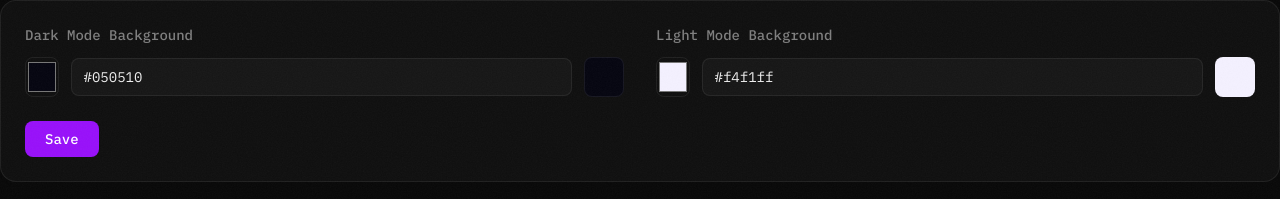
SettingsAdminClient › dark color picker and hex text input are in sync (change picker updates text)
In the colour field named "Dark Mode Background color picker": (42, 77) [25,57,58,97], type "#abcdef"
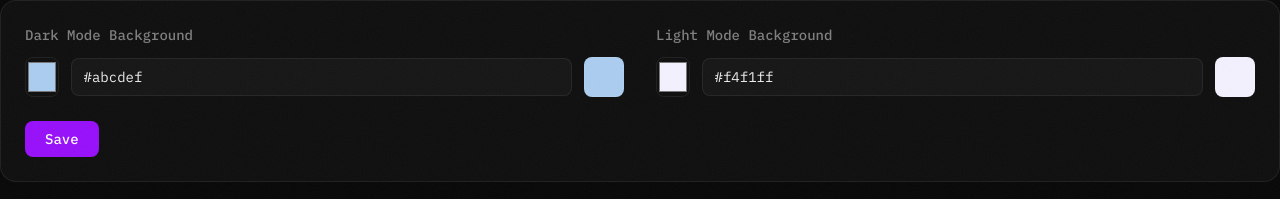
Expected: the field named "Dark Mode Background hex value" holds "#abcdef", [70,58,572,96]
